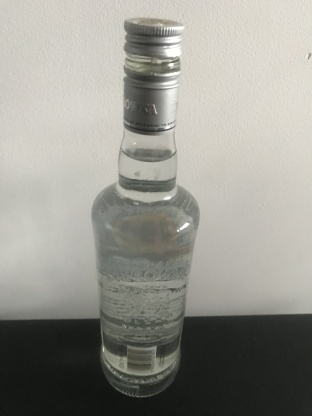nakretka: (121, 15, 185, 134)
